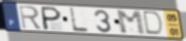3: (93, 9, 113, 34)
D: (143, 10, 166, 37)
L: (69, 7, 91, 33)
M: (115, 10, 147, 36)
P: (41, 5, 63, 31)
R: (18, 5, 43, 31)
